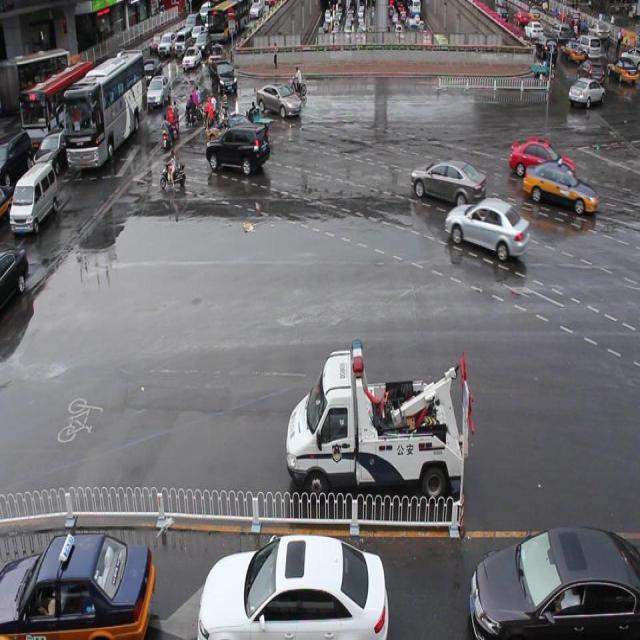bus: (285, 338, 464, 498)
car: (443, 195, 529, 260), (521, 158, 596, 215), (409, 155, 485, 209), (507, 135, 573, 183), (205, 112, 258, 150), (254, 80, 300, 120), (210, 59, 236, 97)
truck: (205, 120, 270, 178)
